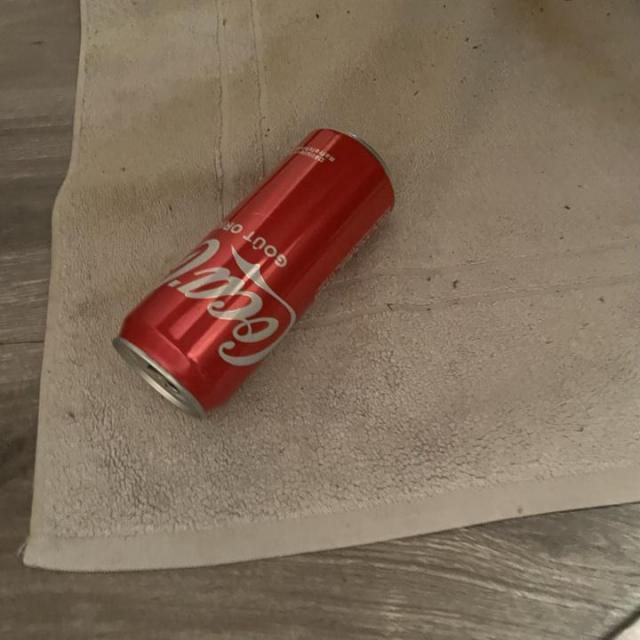recyclable: (108, 113, 416, 436)
